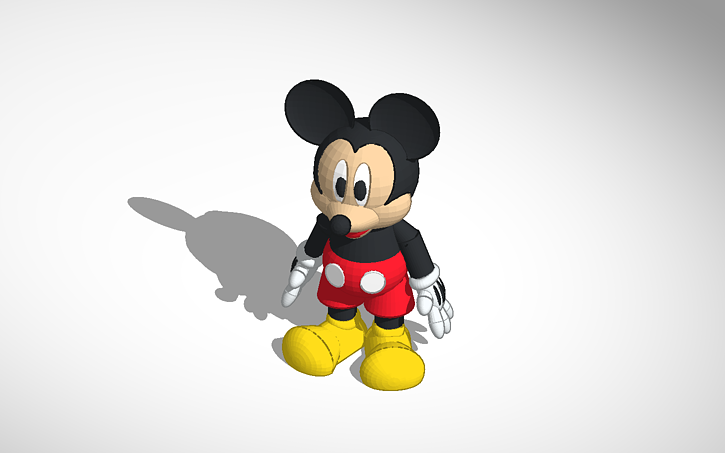Mickey: (283, 78, 442, 242)
